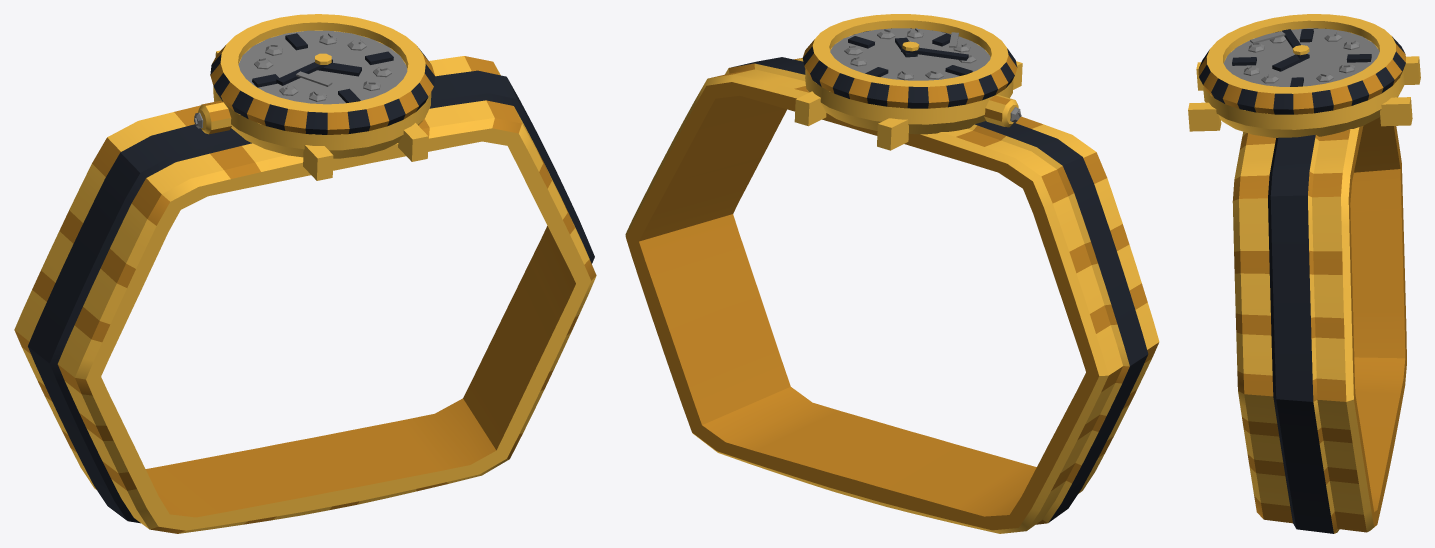
File: Wrist_GoldWatch.fbx
3 views of the same model, side by side, from view 1: azimuth 30°, elevation 25°; view 2: azimuth 150°, elevation 25°; view 3: azimuth 270°, elevation 25° (orthographic). The views are drawn at different scales.
Parts seen in each view (by area): view 1: Wrist_GoldWatch; view 2: Wrist_GoldWatch; view 3: Wrist_GoldWatch.
Boxes of the visible parts, x1,y1,x2,y2 form: Wrist_GoldWatch: (14,14,596,533); Wrist_GoldWatch: (625,14,1159,533); Wrist_GoldWatch: (1188,14,1420,533).
Size of the model in its own units: 0.4821 by 0.3869 by 0.1954.
Materials: 1 (1 with a texture image).
